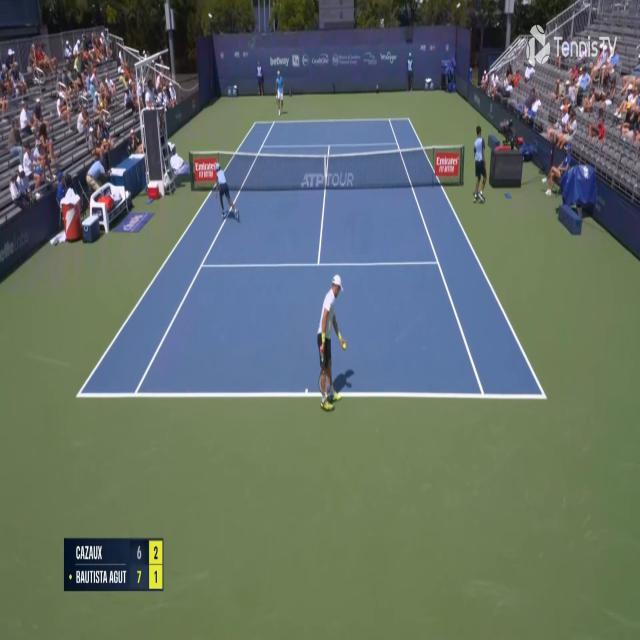tennis-player: (315, 270, 354, 416), (274, 68, 286, 116)
